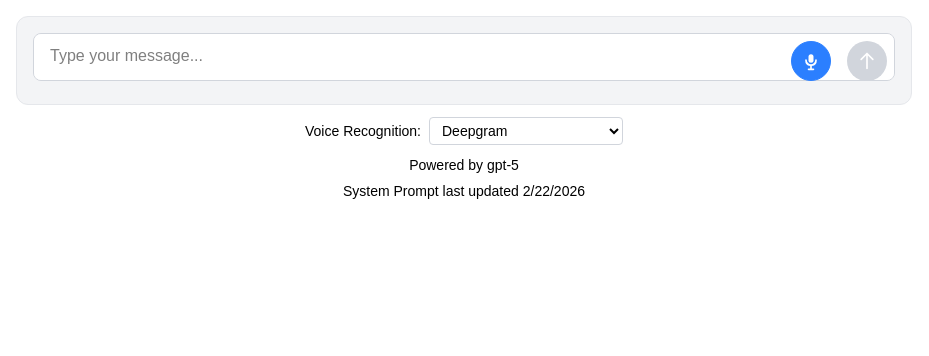
Test case: Chat microphone › does not pause or resume microphone when submitting without recording
The width and height of the screenshot is (929, 356).
Type "hello" into the text box with placeholder "Type your message..." at (464, 57), box [33,33,895,81]
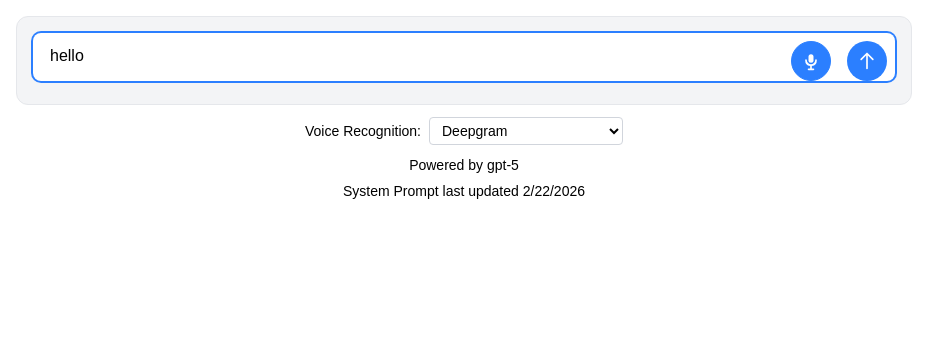
Press Enter
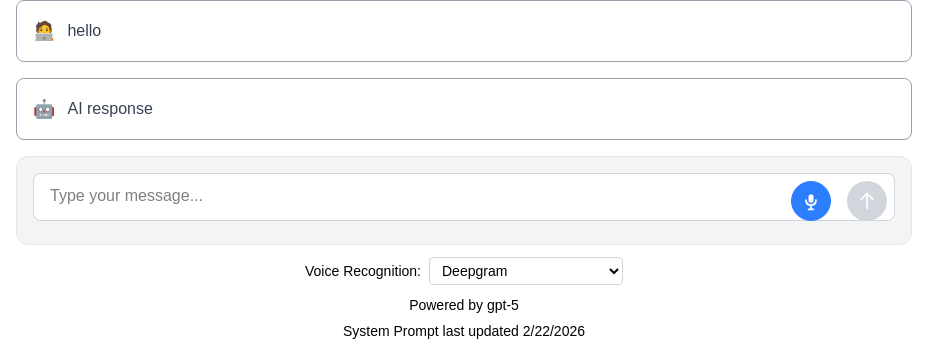
Expected: the button named "Start recording" is shown, [791,180,831,220]
Expected: the text "AI response" is shown, [68,100,153,117]
